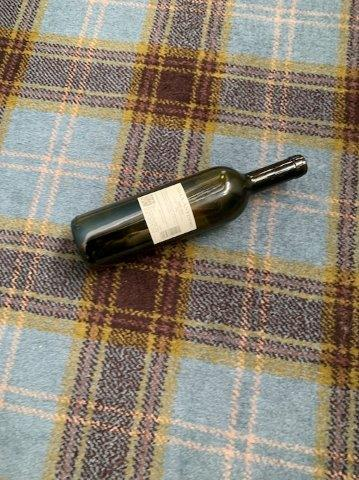botolkaca: (72, 154, 313, 267)
